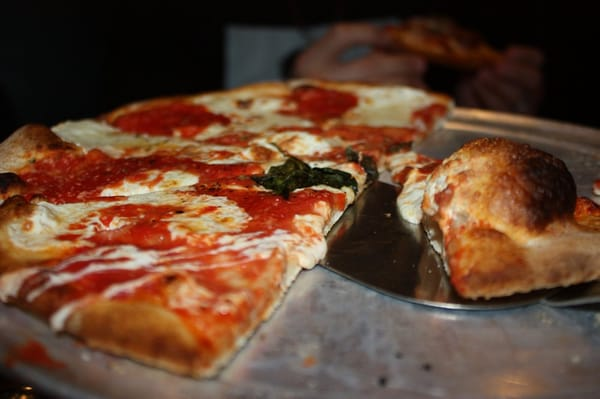sandwich: (0, 78, 451, 384), (418, 136, 600, 301)
